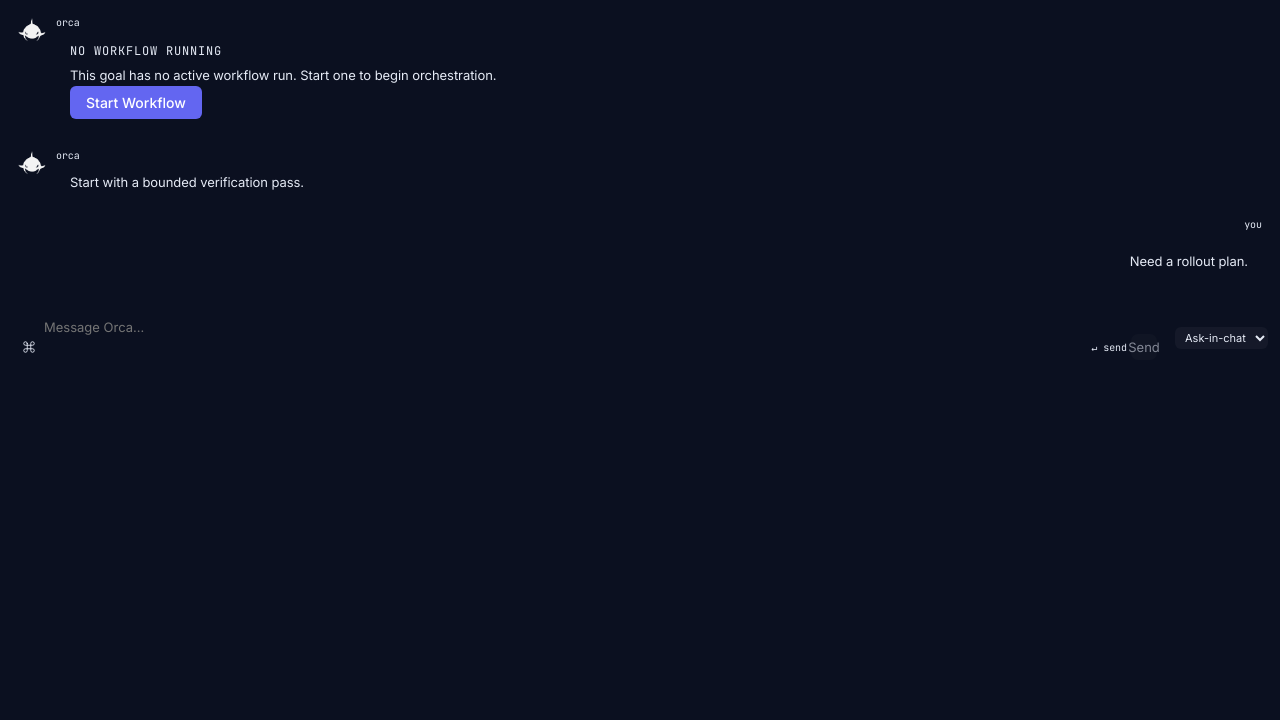
Test case: OrcaChat › loads persisted messages and sends a freeform orchestrator message
Expected: the text "Need a rollout plan." is shown, [1130,253,1248,269]
Expected: the text "Start with a bounded verification pass." is shown, [70,174,304,190]
Type "Keep this scoped." into the text box with placeholder "Message Orca…" at x=564, y=338, box [44,315,1083,360]
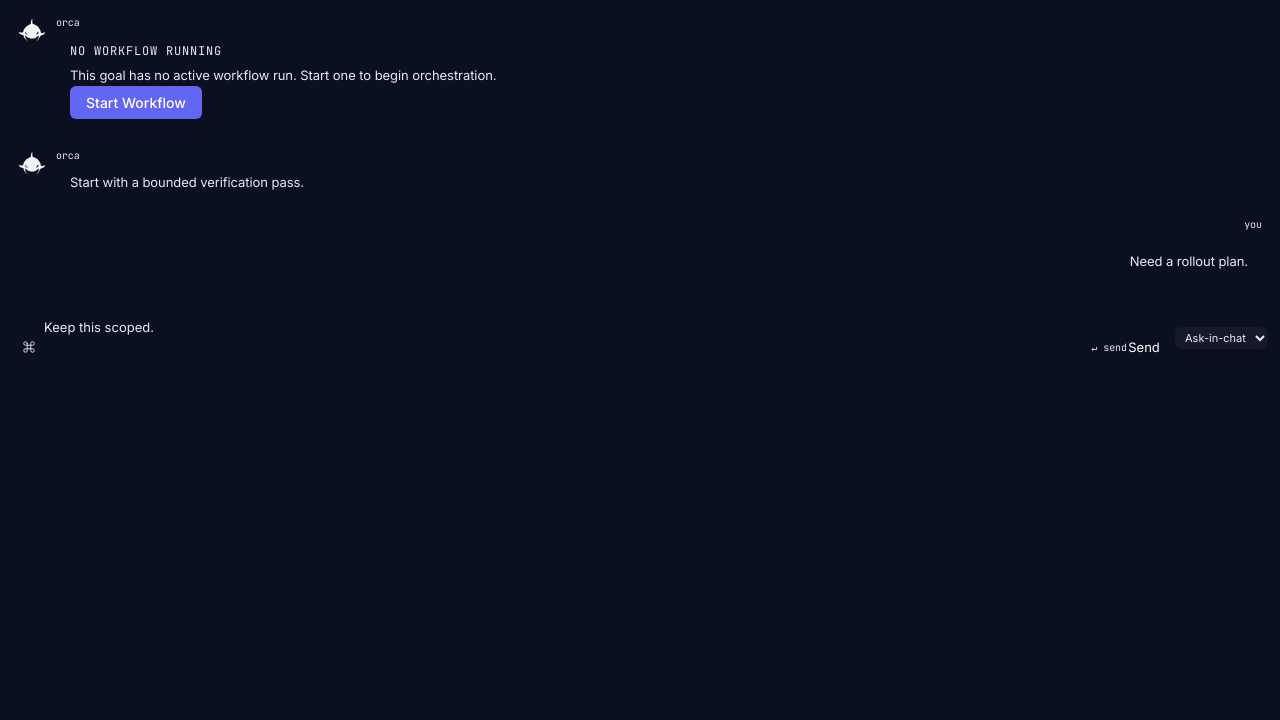
Click the button "Send" at x=1144, y=347, box [1131,334,1157,360]
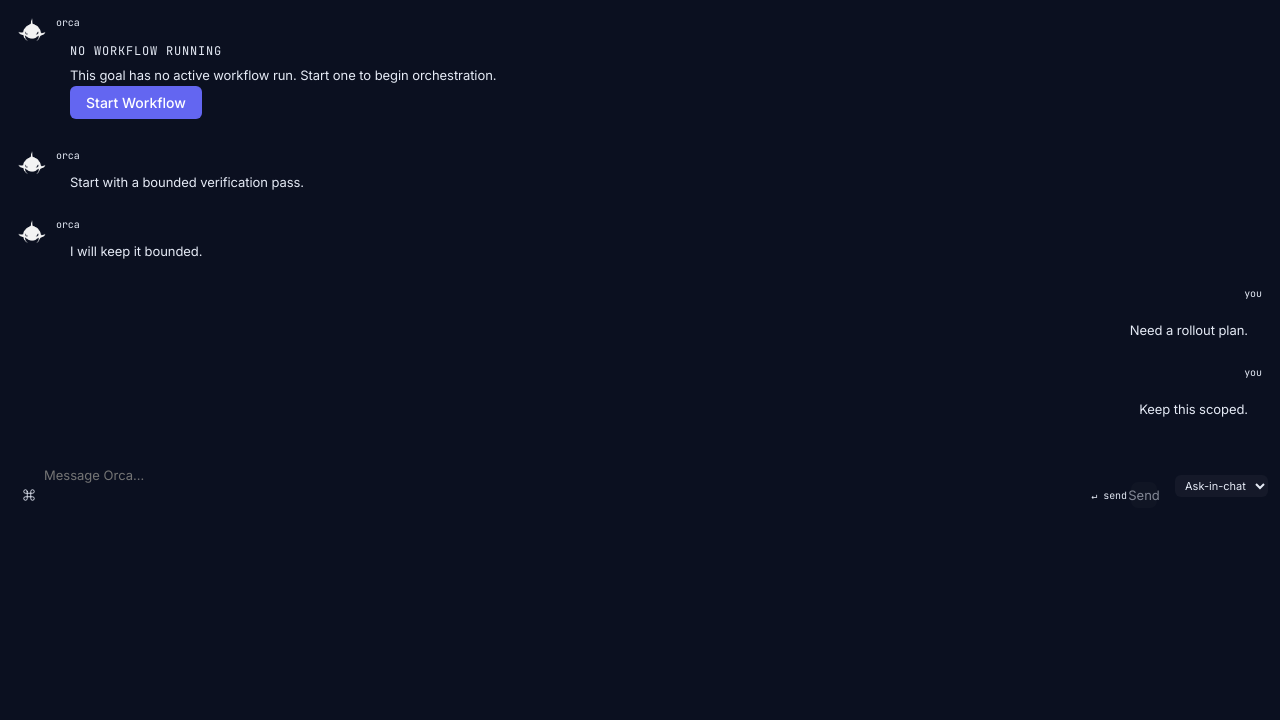
Result: the text "I will keep it bounded." is shown at [70,243,202,259]
